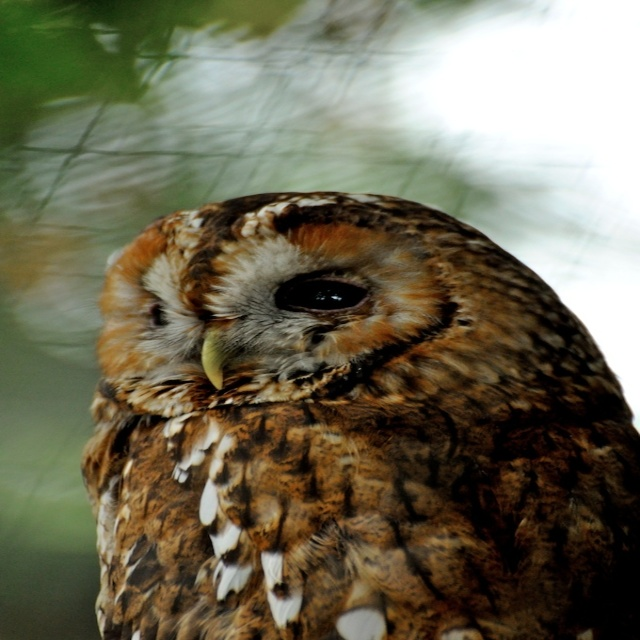Owl: (78, 194, 639, 639)
